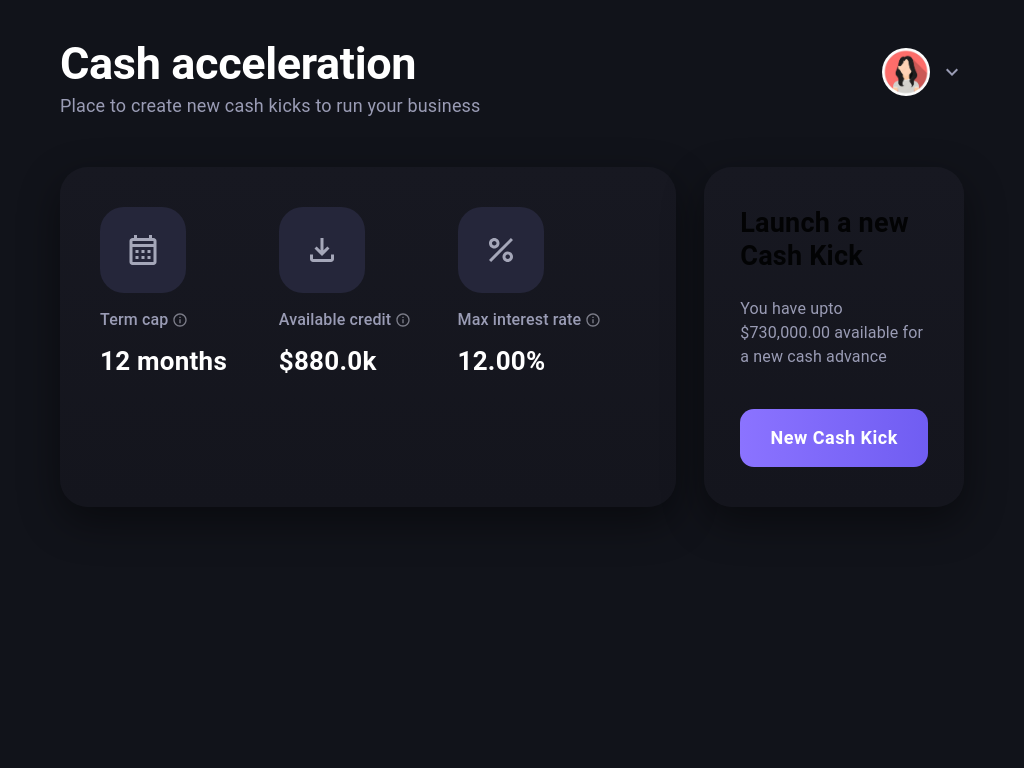
Test: DashboardTemplate Component › should open the modal when new cash kick button is clicked
Click the button "New Cash Kick" at [834, 438], box top-left (740, 409), bottom-right (928, 467)
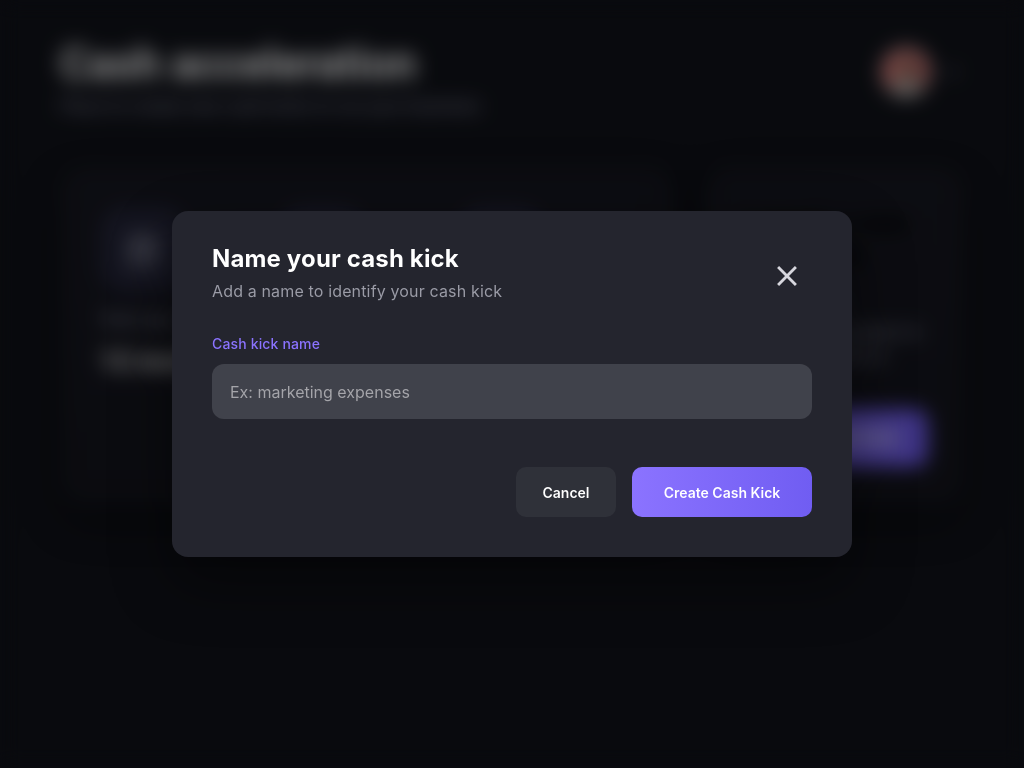
Expected: the heading "Name your cash kick" is shown, top-left (212, 251), bottom-right (502, 267)
